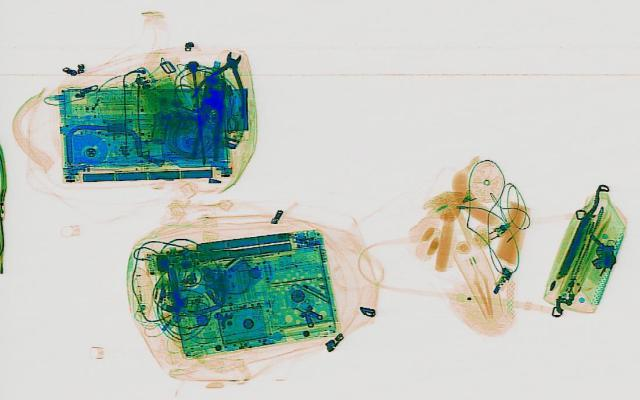Pliers: (186, 46, 264, 113)
